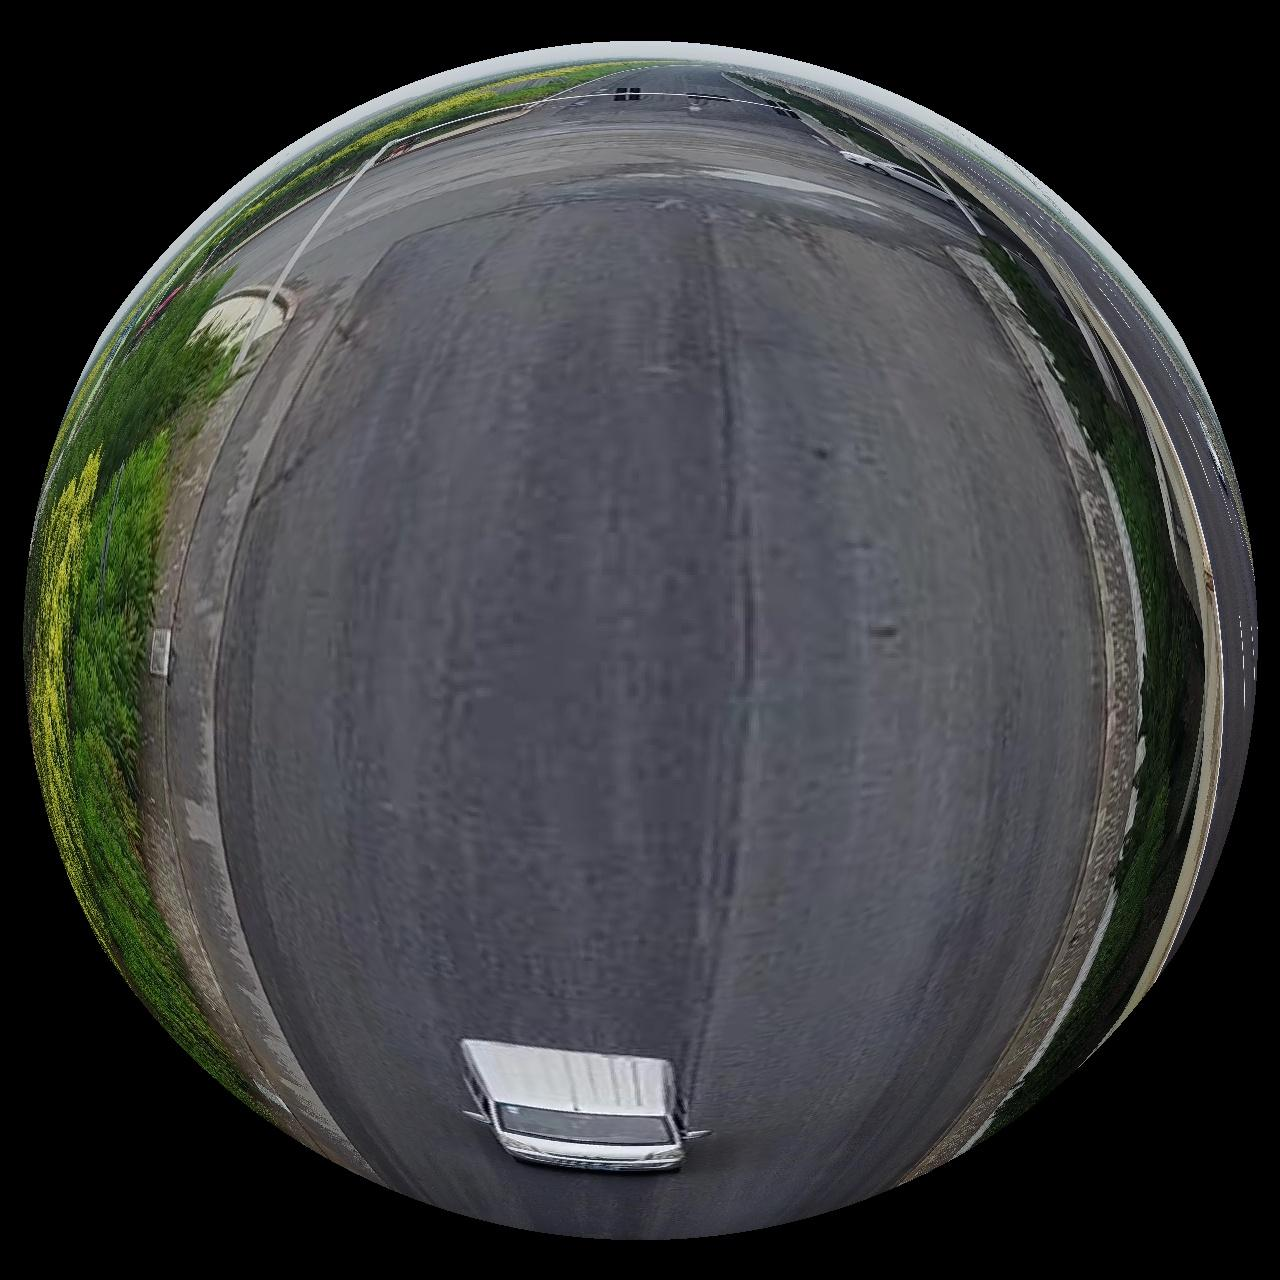cars: (459, 1041, 712, 1175), (840, 149, 956, 202)
trees: (25, 271, 247, 1096)
